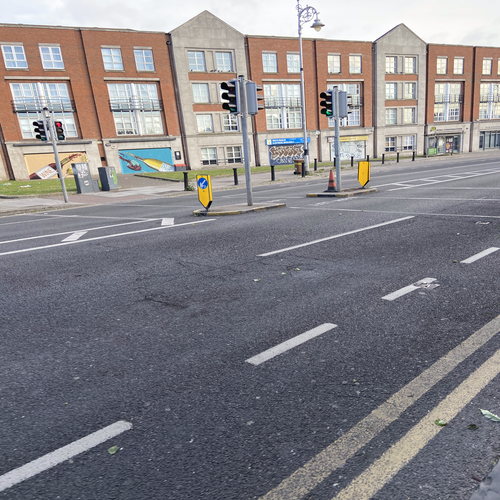Keep Left: (196, 173, 214, 213)
Traffic Light: (219, 74, 247, 121), (317, 89, 338, 121), (32, 115, 49, 144), (50, 116, 65, 145)
